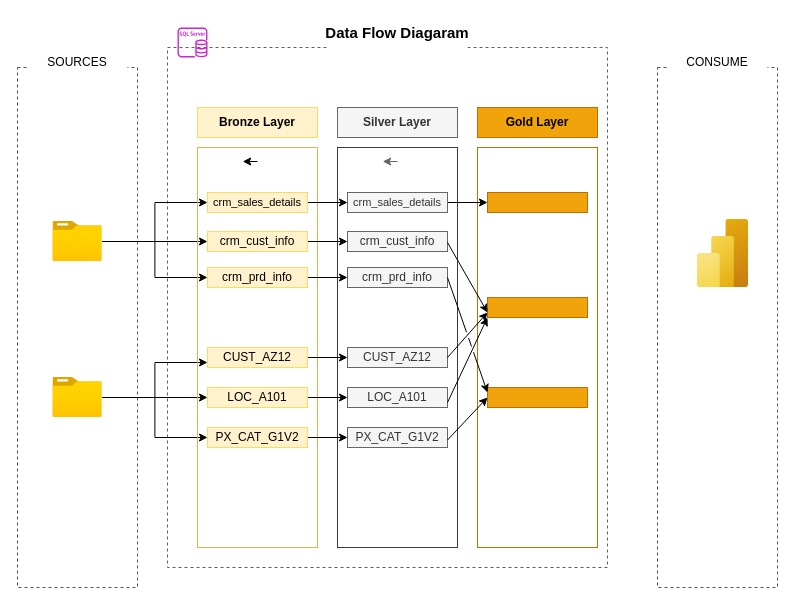
Image size: 795x605. Some labels were removed from this diagram. The centre of each missing label's shape, as x and y in pixels:
CRM: point (77, 241)
DATA WAREHOUSE: point (397, 62)
dim_customers: point (537, 307)
dim_products: point (537, 397)
ERP: point (77, 397)
fact_sales: point (537, 202)
Power BI: point (722, 253)
